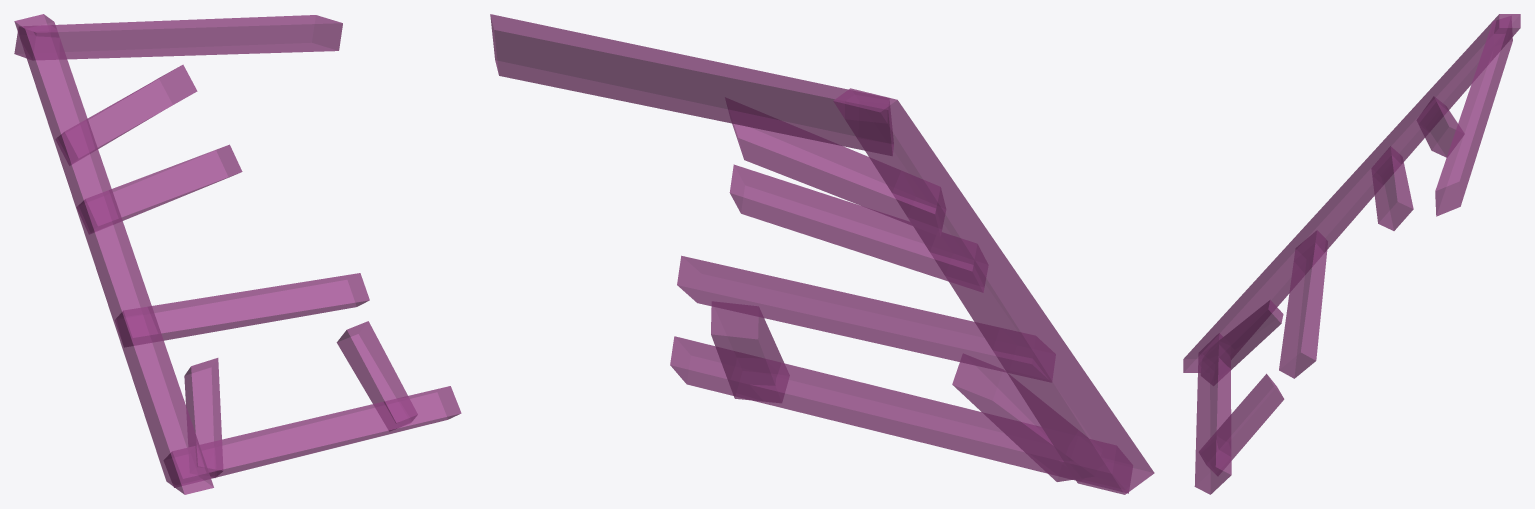
Rendered from SM_Bld_Roof_Ruin_End_02_Collision.fbx.
3 renders of one model, left to right at view 1: azimuth 30°, elevation 25°; view 2: azimuth 150°, elevation 25°; view 3: azimuth 270°, elevation 25°, orthographic. The views are drawn at different scales.
Visible parts, largest first — view 1: SM_Bld_Roof_Ruin_End_02_Collision; view 2: SM_Bld_Roof_Ruin_End_02_Collision; view 3: SM_Bld_Roof_Ruin_End_02_Collision.
Boxes of the visible parts, <box> form: SM_Bld_Roof_Ruin_End_02_Collision: <box>14,14,461,494</box>; SM_Bld_Roof_Ruin_End_02_Collision: <box>490,14,1154,494</box>; SM_Bld_Roof_Ruin_End_02_Collision: <box>1183,14,1520,494</box>.
Bounding box in the file's own units: 267 × 313 × 273.
